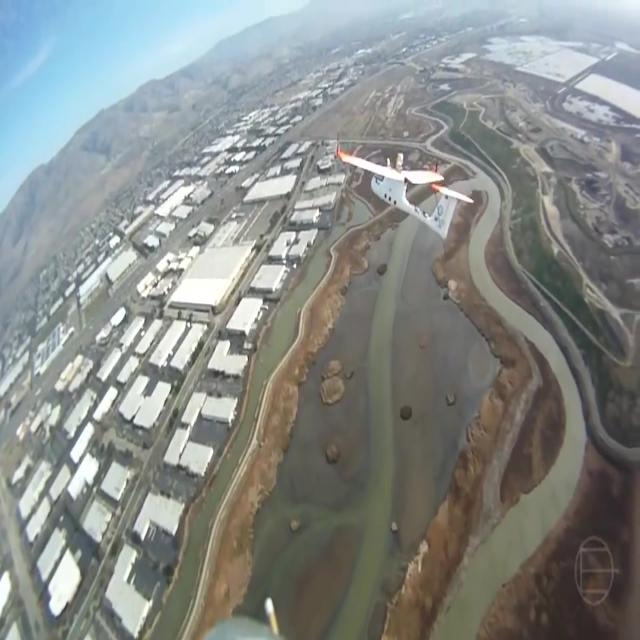iha: (339, 173, 473, 209)
